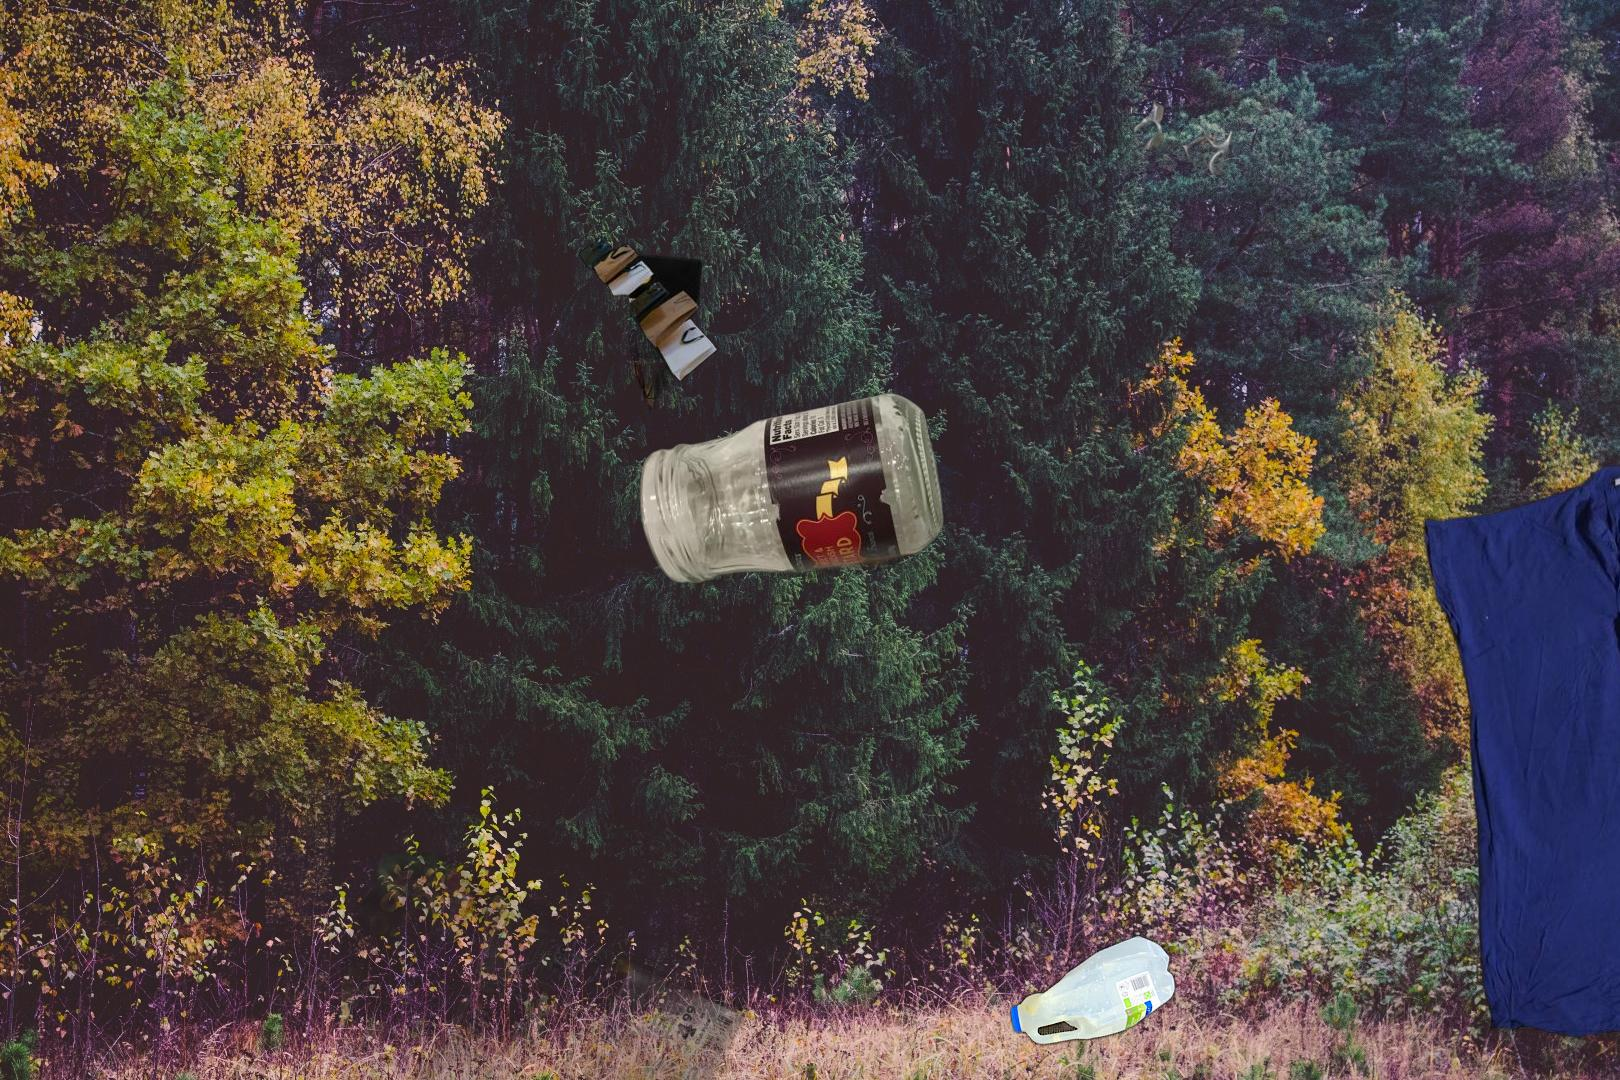clothes: (1421, 454, 1620, 1044)
glass: (635, 391, 947, 600)
paper: (341, 853, 830, 1080), (1079, 72, 1243, 178)
paper-bag: (480, 235, 741, 425)
plastic-bottles: (1006, 931, 1181, 1051)
